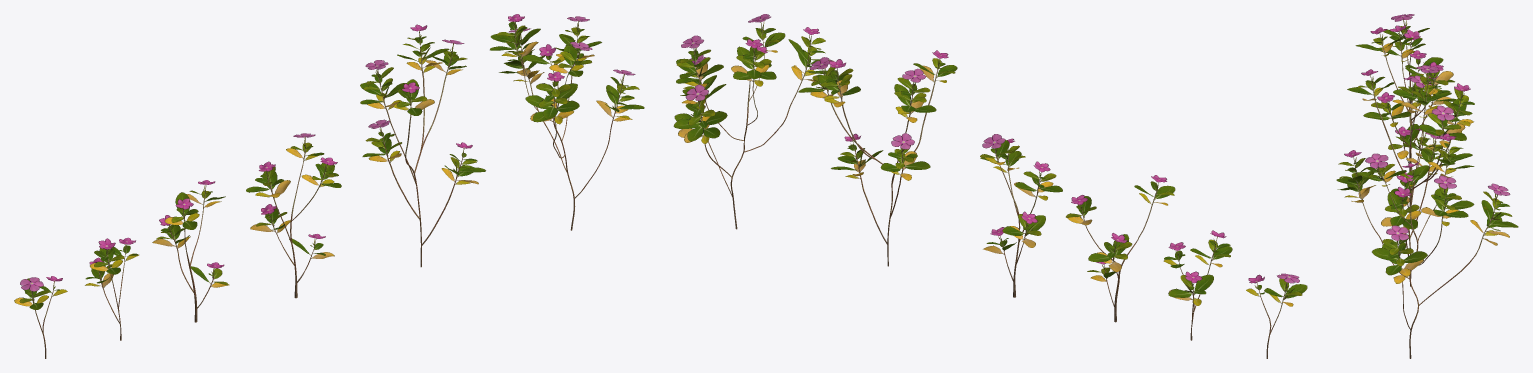
Rendered from periwinkle_plant.glb.
3 views of the same model, side by side, from view 1: azimuth 30°, elevation 25°; view 2: azimuth 150°, elevation 25°; view 3: azimuth 270°, elevation 25° (orthographic). The views are drawn at different scales.
Visible parts, largest first — view 1: periwinkle_plant_04_LOD0; view 2: periwinkle_plant_04_LOD0; view 3: periwinkle_plant_04_LOD0.
Boxes of the visible parts, box(x1,y1,x2,y2) form: periwinkle_plant_04_LOD0: box(14, 14, 644, 358); periwinkle_plant_04_LOD0: box(673, 14, 1307, 358); periwinkle_plant_04_LOD0: box(1336, 14, 1518, 358).
Size of the model in its own units: 1.24 by 0.4107 by 0.3208.
Materials: 1 (1 with a texture image).
